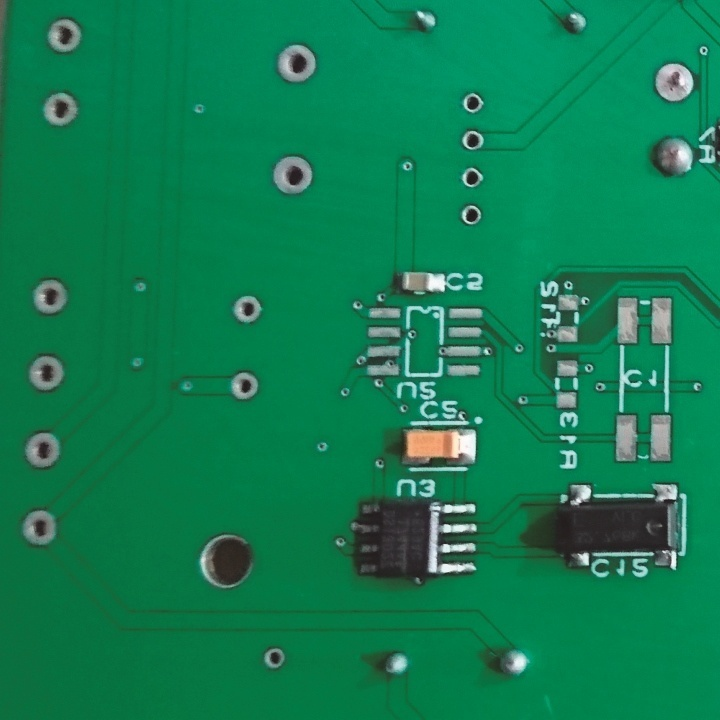F: (14, 500, 61, 551), (651, 58, 698, 105), (267, 151, 316, 196), (273, 39, 319, 84), (30, 273, 73, 317), (24, 353, 70, 393), (44, 14, 84, 59), (39, 89, 79, 132), (24, 429, 64, 472), (230, 292, 266, 326), (227, 369, 258, 399), (456, 90, 488, 115), (458, 164, 484, 194), (458, 200, 484, 229), (261, 645, 290, 671), (459, 129, 487, 154)
